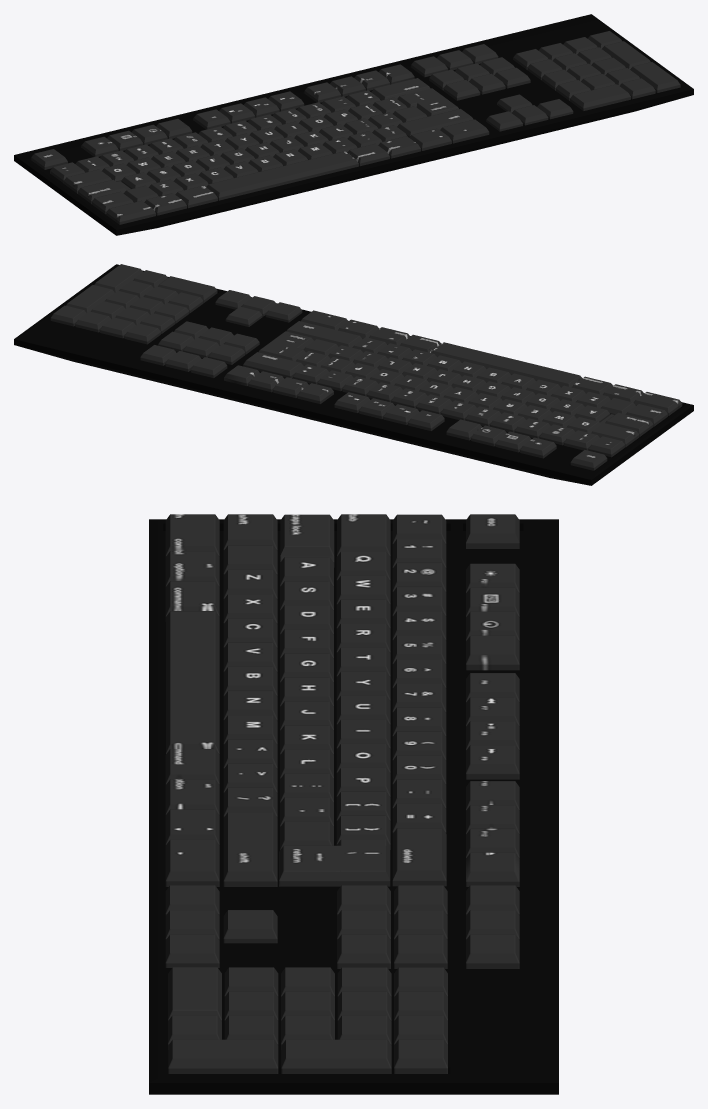
The model's file is keyboard-graphics.glb.
3 views of the same model, one above another, from view 1: azimuth 30°, elevation 25°; view 2: azimuth 150°, elevation 25°; view 3: azimuth 270°, elevation 25° (orthographic). The views are drawn at different scales.
Parts seen in each view (by area): view 1: Object_3, Object_4, Object_7, Object_5; view 2: Object_4, Object_3, Object_6, Object_7, Object_5; view 3: Object_4, Object_3, Object_5, Object_6, Object_7.
Part boxes in pixels (x1,y1,x2,y2): Object_3: (14,14,693,235); Object_4: (34,31,676,216); Object_7: (31,36,657,224); Object_5: (397,92,630,110); Object_4: (54,264,678,462); Object_3: (14,264,693,485); Object_6: (50,278,668,470); Object_7: (73,269,682,470); Object_5: (243,350,305,377); Object_4: (170,514,515,1058); Object_3: (149,514,558,1094); Object_5: (165,533,519,1073); Object_6: (168,514,519,1067); Object_7: (217,828,396,1019).
Size of the model in its own units: 4.45 by 0.1751 by 1.37.
Materials: 1 (1 with a texture image).
